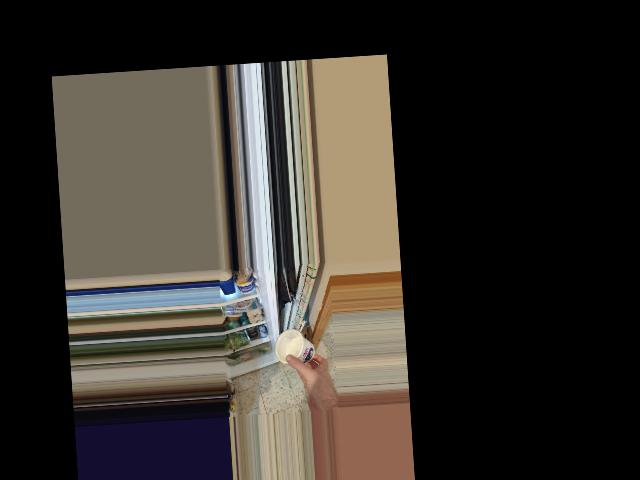cotage: (276, 328, 317, 367)
